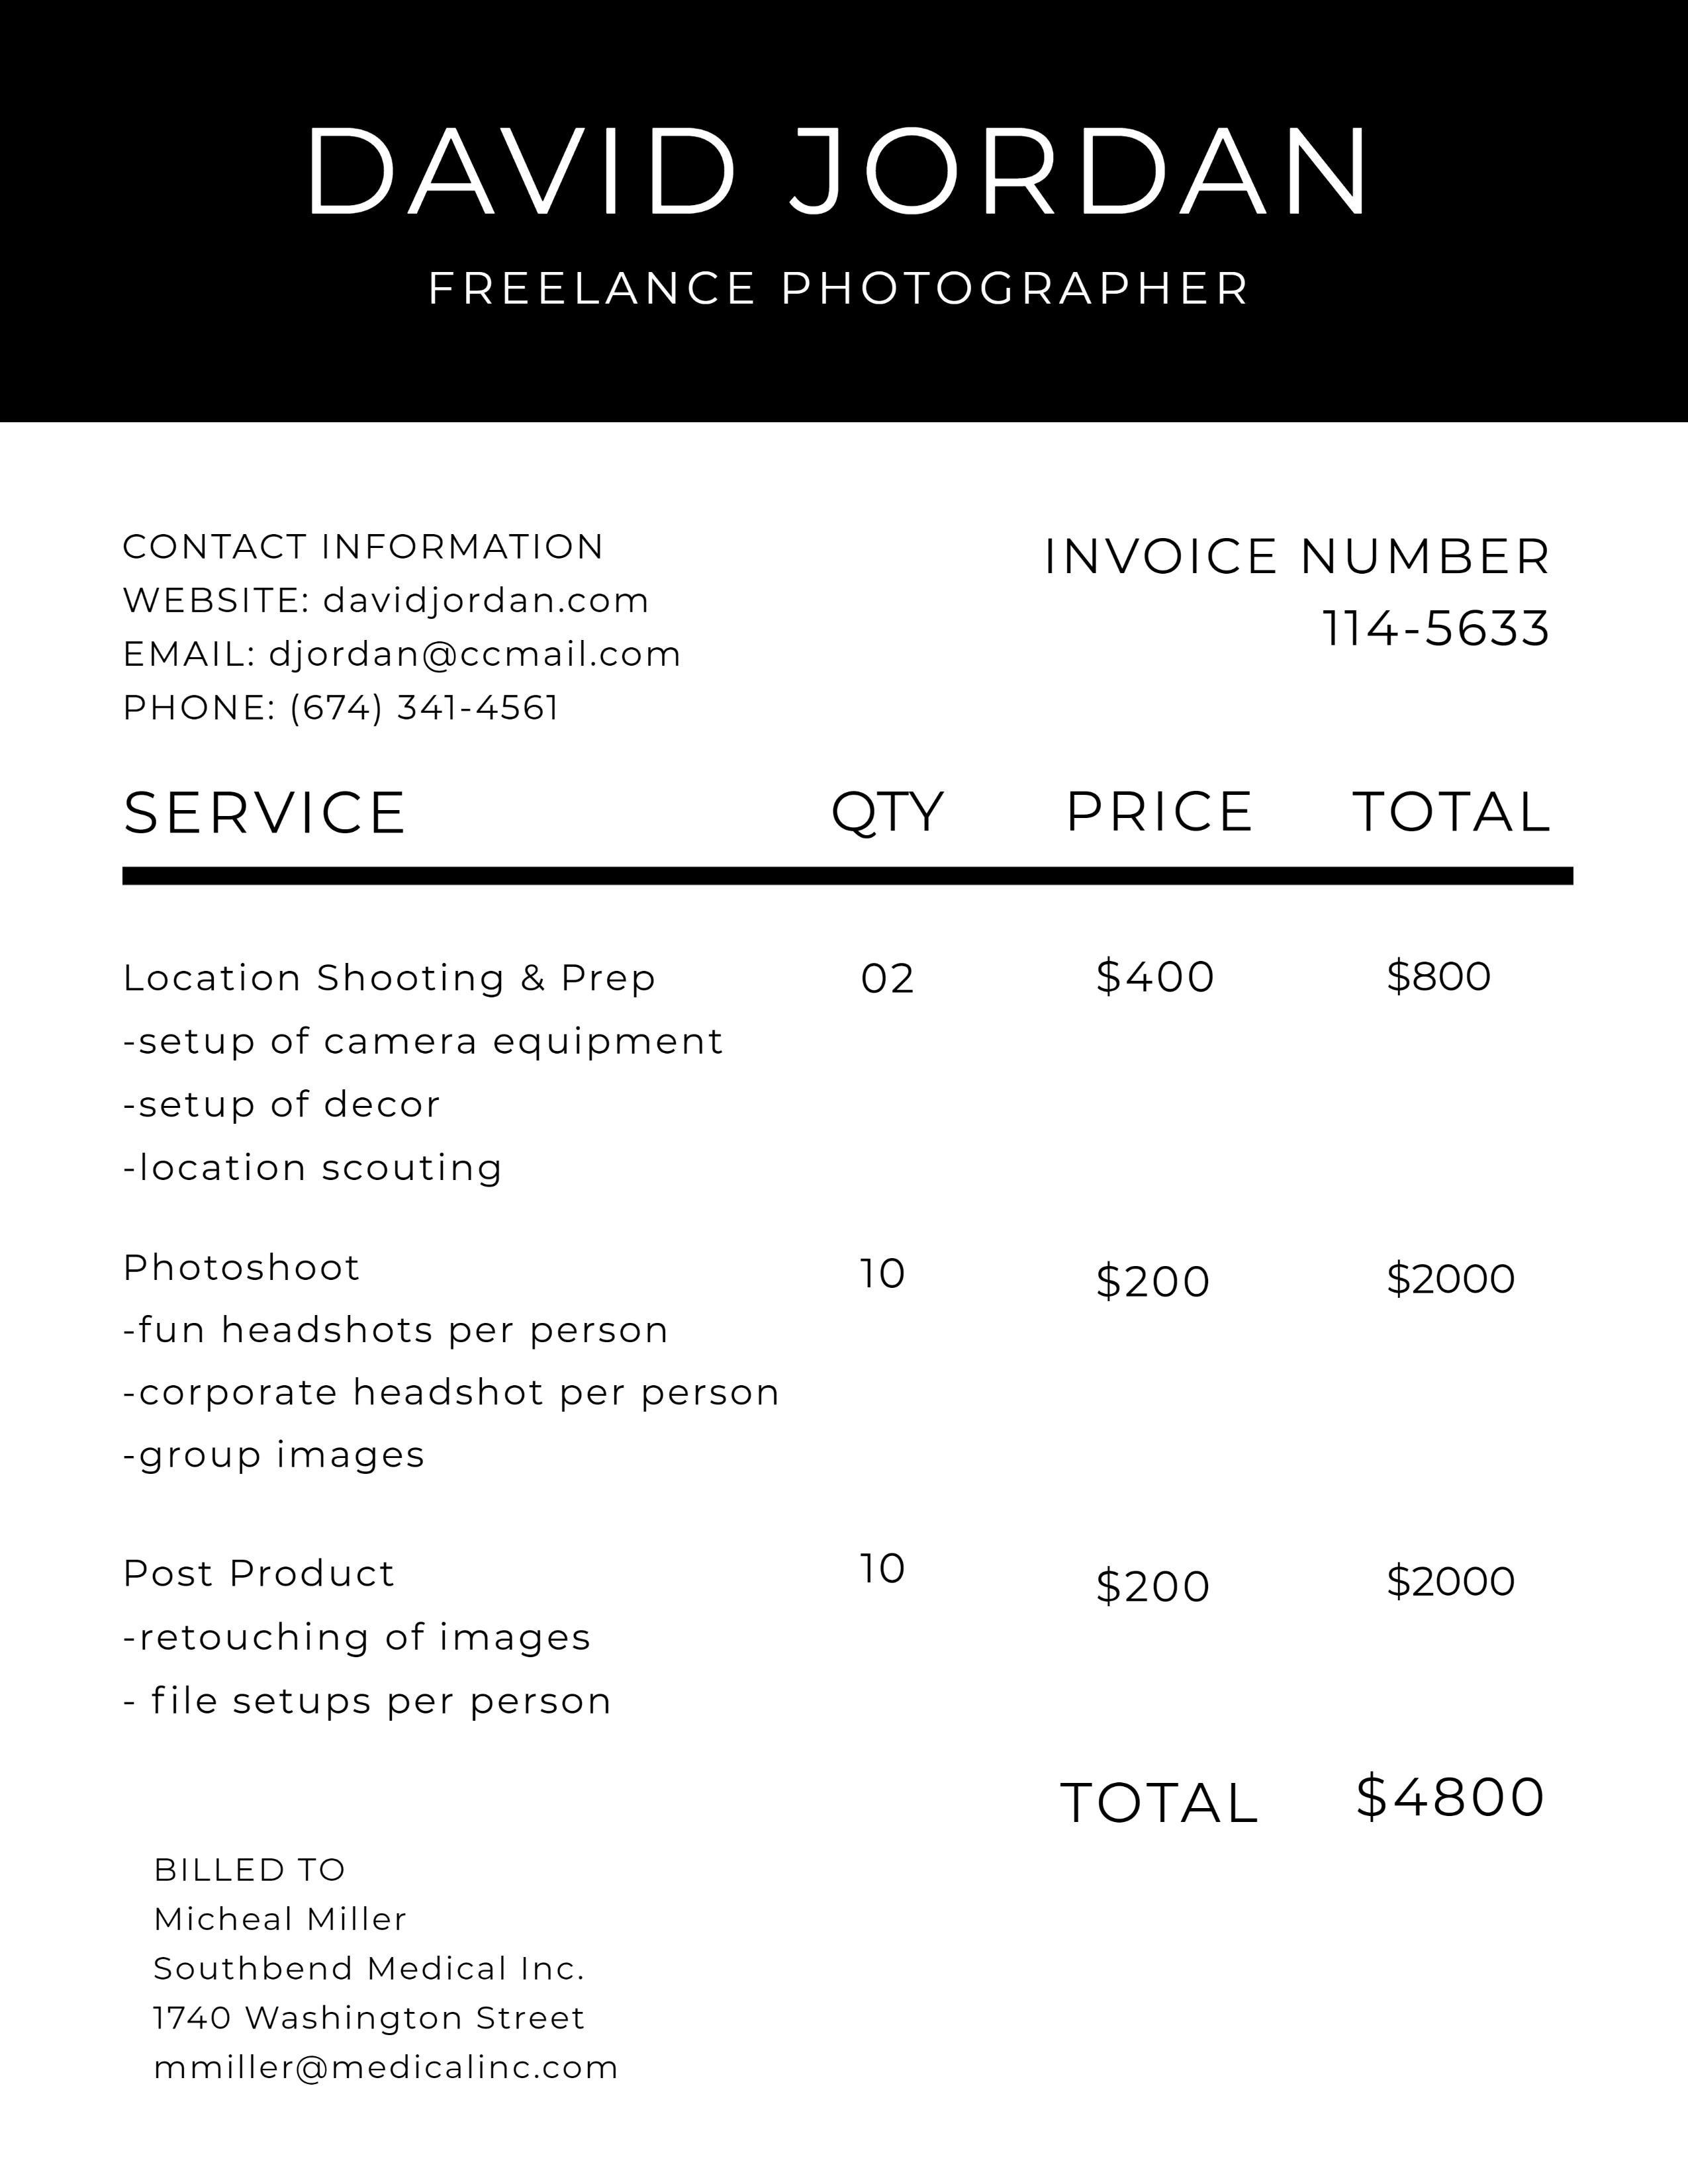ROI: (118, 782, 1554, 1724), (148, 1831, 632, 2109), (107, 518, 716, 737), (1019, 524, 1585, 662), (1053, 1765, 1552, 1840)
